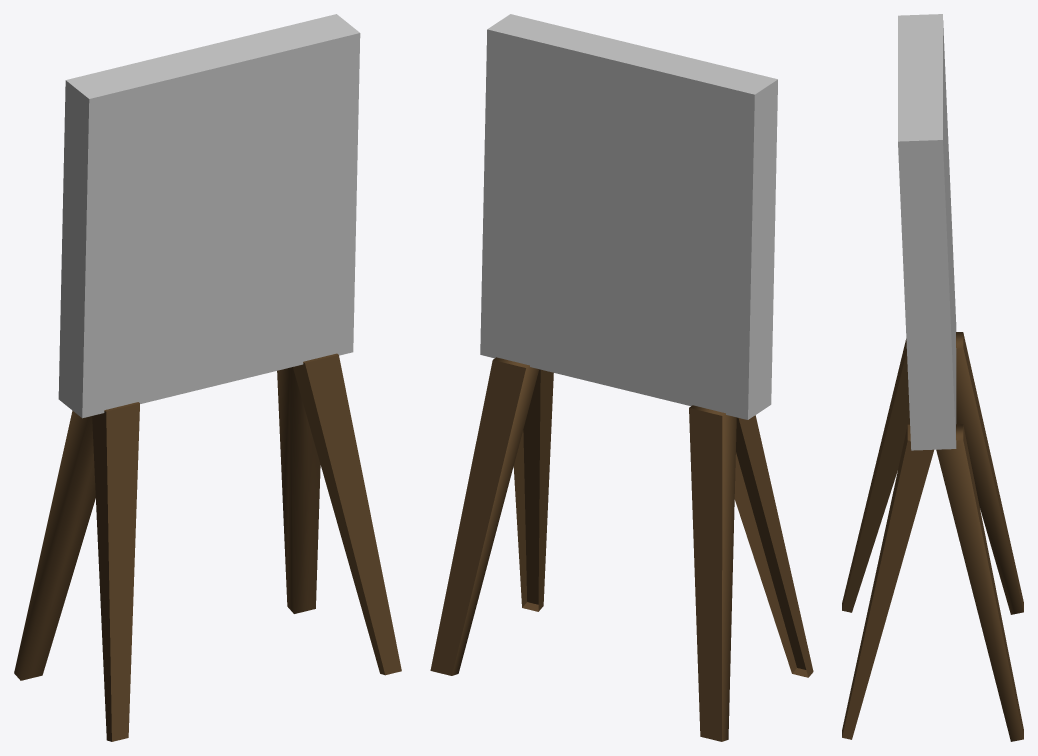
Rendered from room.fbx.
3 renders of one model, left to right at view 1: azimuth 30°, elevation 25°; view 2: azimuth 150°, elevation 25°; view 3: azimuth 270°, elevation 25°, orthographic. The views are drawn at different scales.
Parts seen in each view (by area): view 1: Cube.021; view 2: Cube.021; view 3: Cube.021.
Part boxes in pixels (box(x1,y1,x2,y2)): Cube.021: box(14, 14, 401, 741); Cube.021: box(430, 14, 813, 741); Cube.021: box(842, 14, 1023, 741).
Bounding box in the file's own units: 48.02 × 97.14 × 26.89.
1 material, 1 textured.
